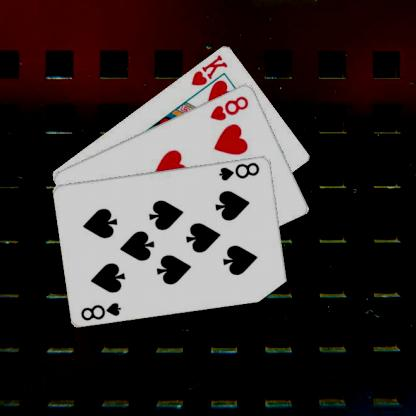8H: (207, 93, 250, 121)
8S: (78, 299, 123, 322), (216, 160, 261, 182)
KH: (188, 51, 229, 87)
